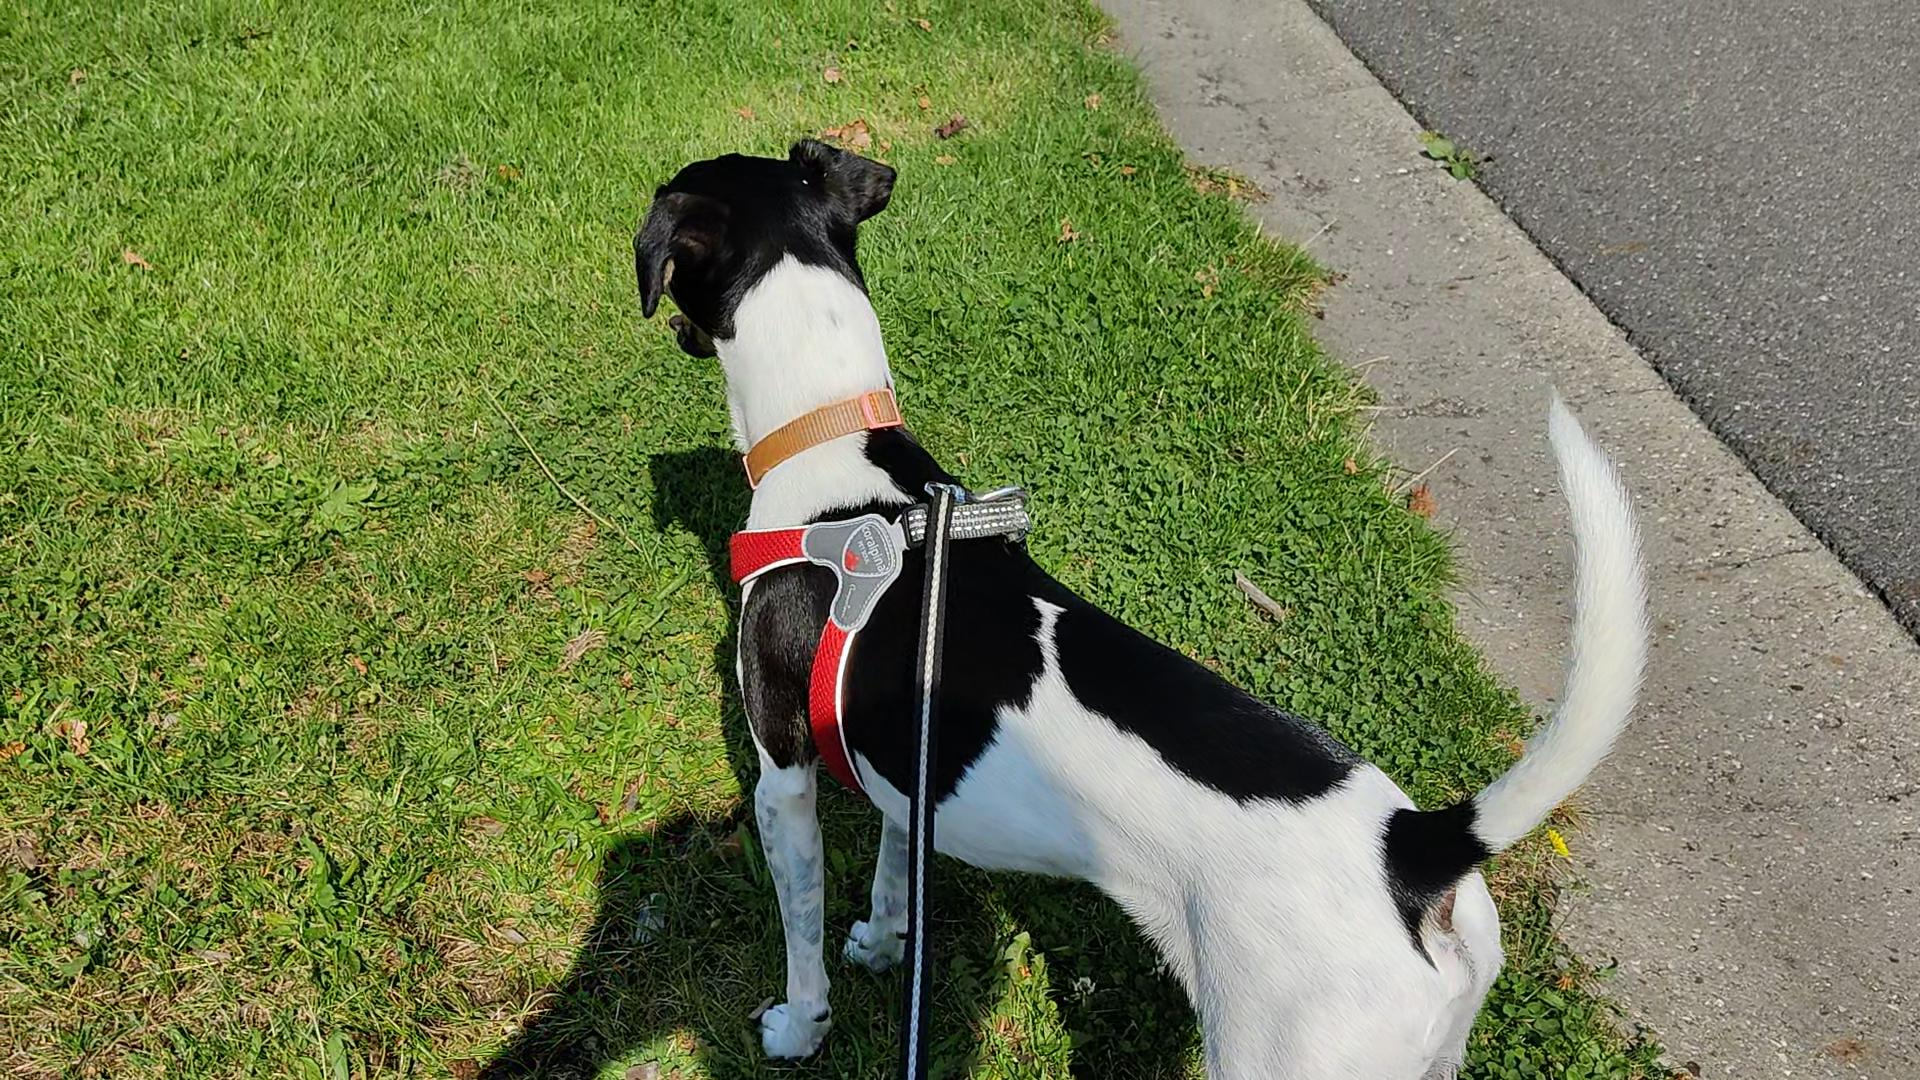Dog: (618, 128, 1654, 1079)
